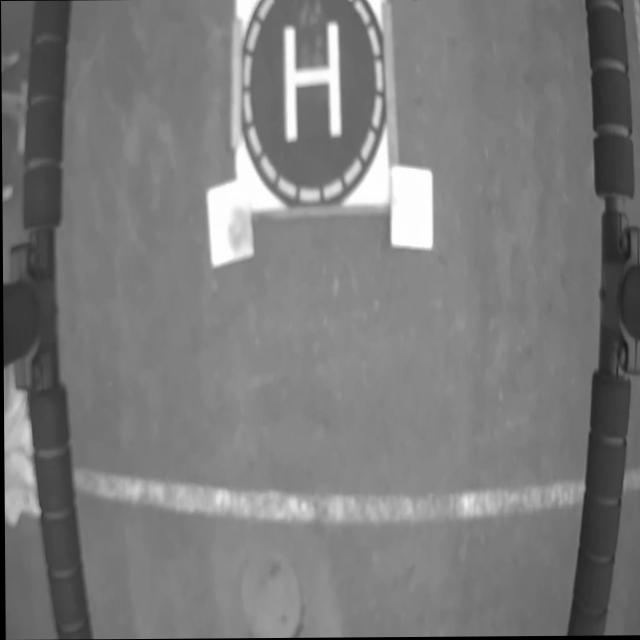Helipad: (281, 21, 342, 143)
